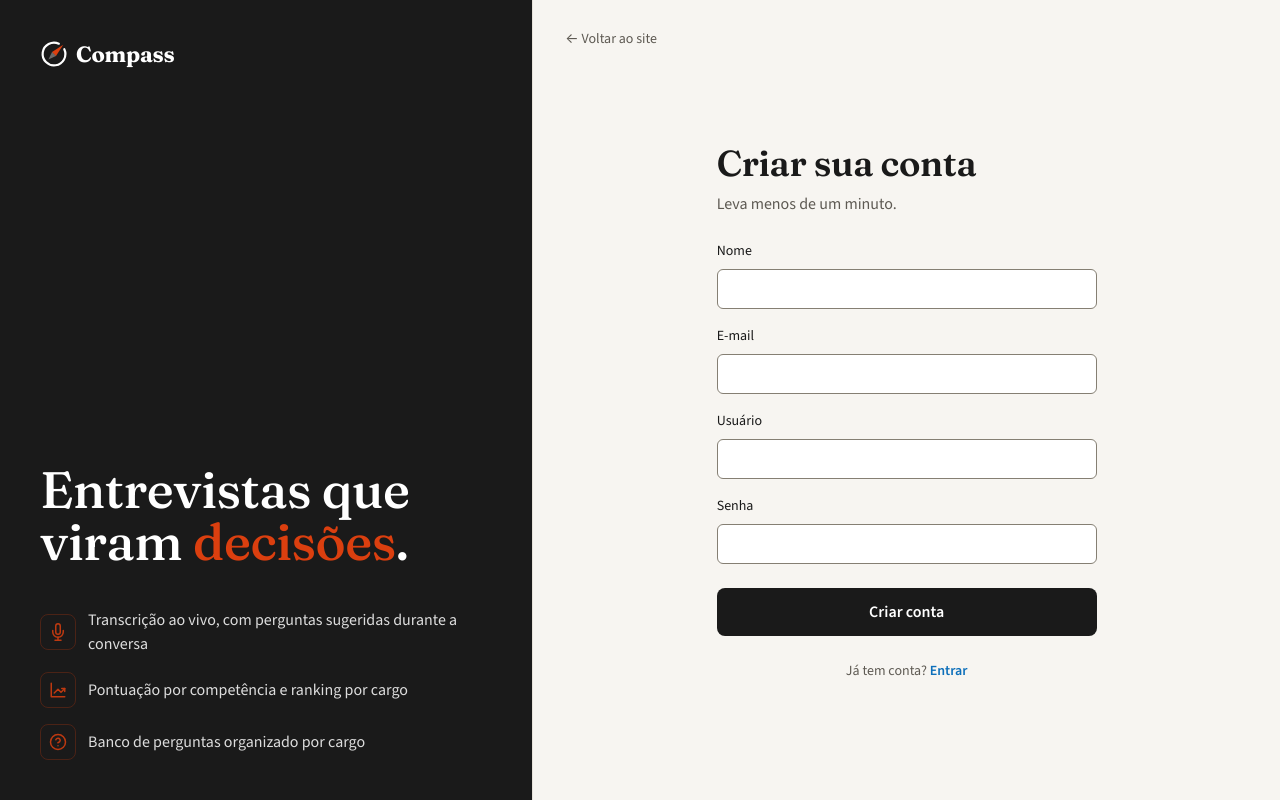
Test: cadastro válido avisa por toast e volta para o login com o usuário preenchido
Check: the heading "Criar sua conta" is shown, box [717,141,976,185]
Type "Ana Souza" into the field labelled "Nome" at (907, 289), box [717,269,1097,309]
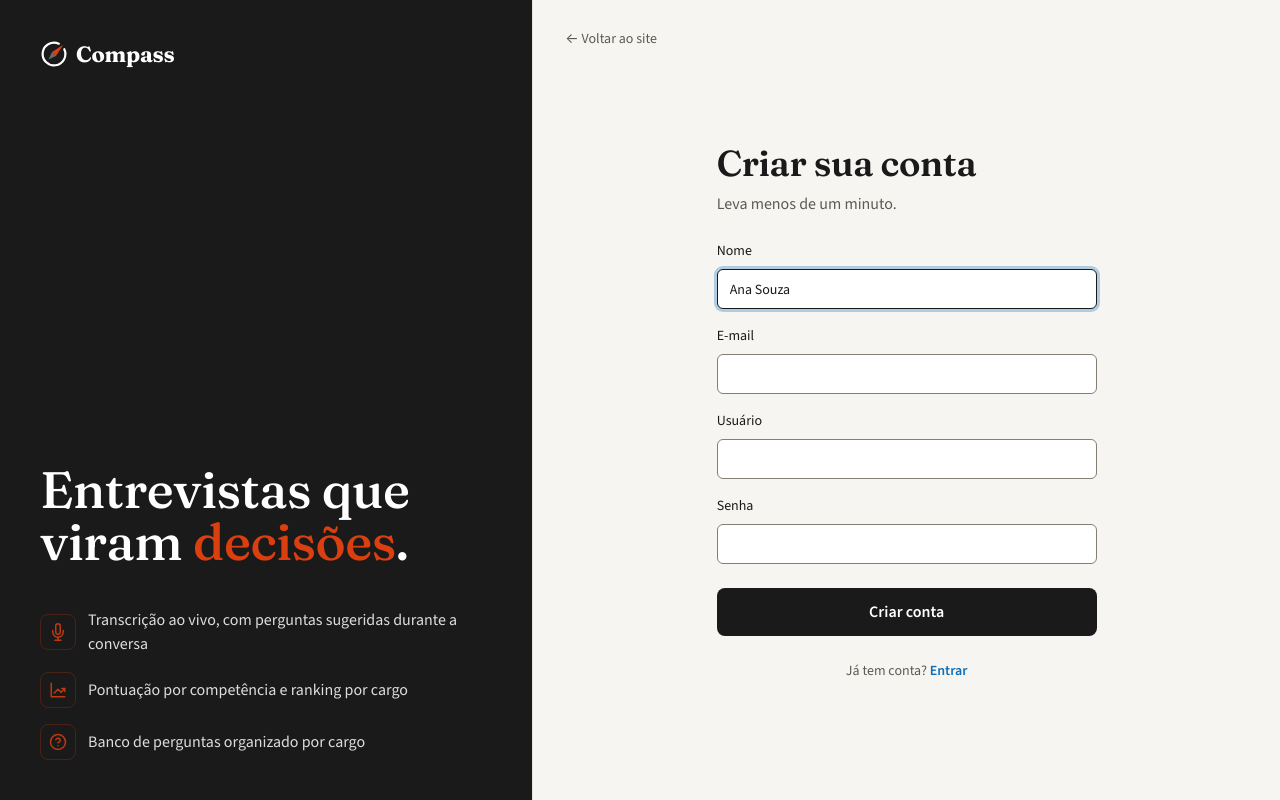
Type "ana@x.com" into the field labelled "E-mail" at (907, 374), box [717,354,1097,394]
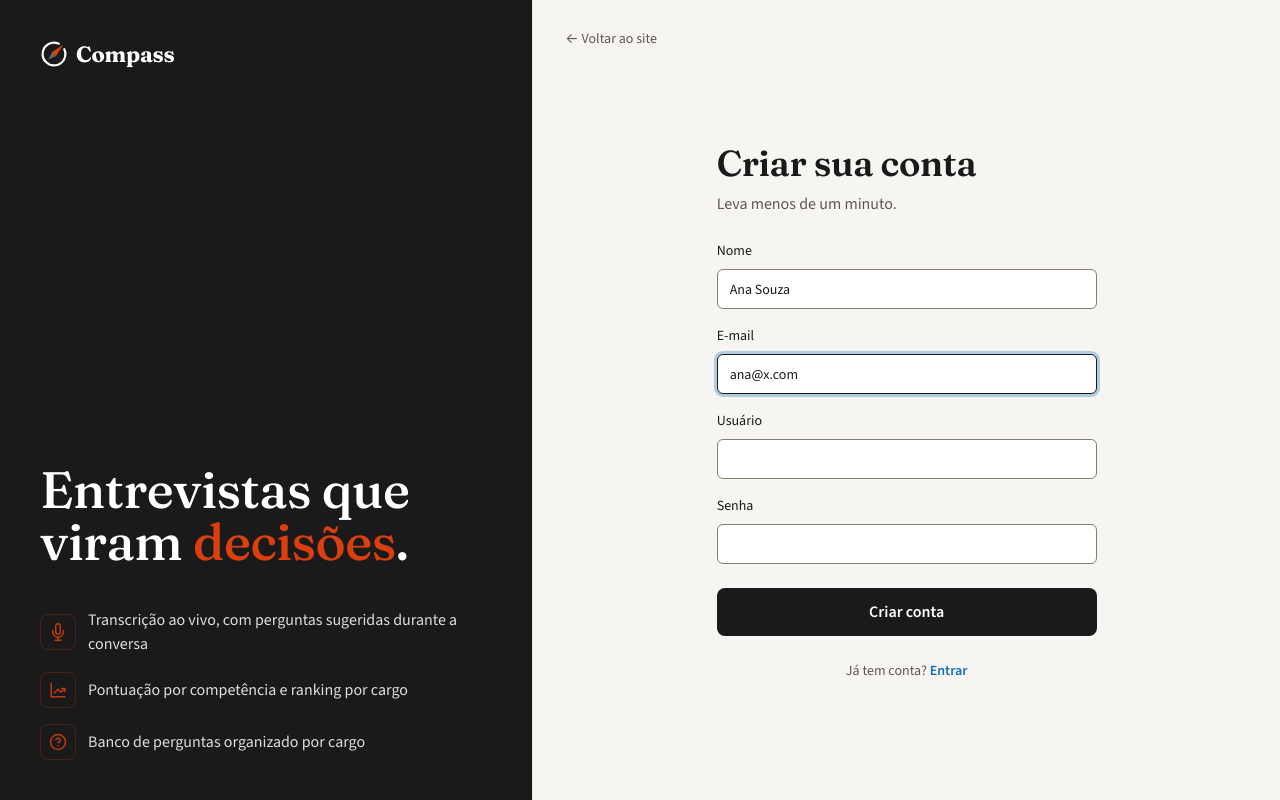
Type "ana" into the field labelled "Usuário" at (907, 459), box [717,439,1097,479]
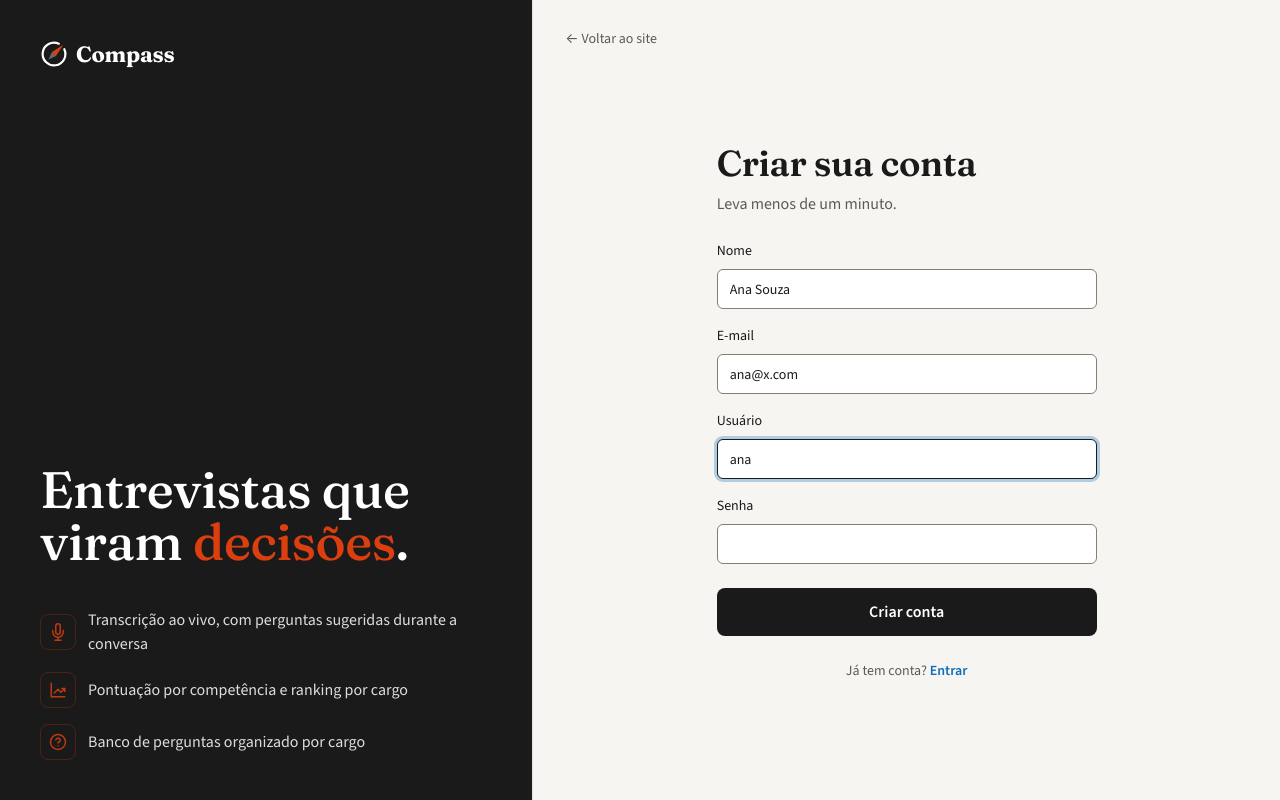
Type "segredo-123" into the password field labelled "Senha" at (907, 544), box [717,524,1097,564]
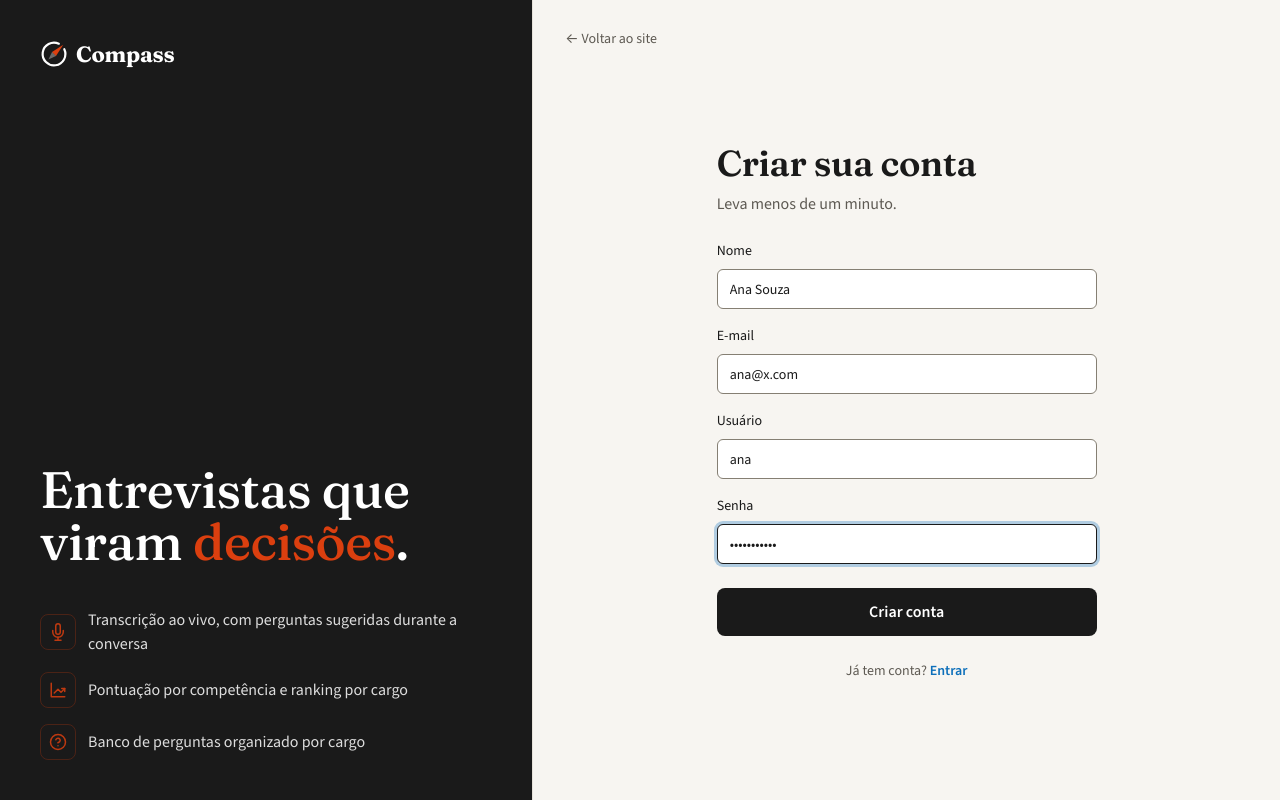
Click the button "Criar conta" at (907, 612), box [717,588,1097,636]
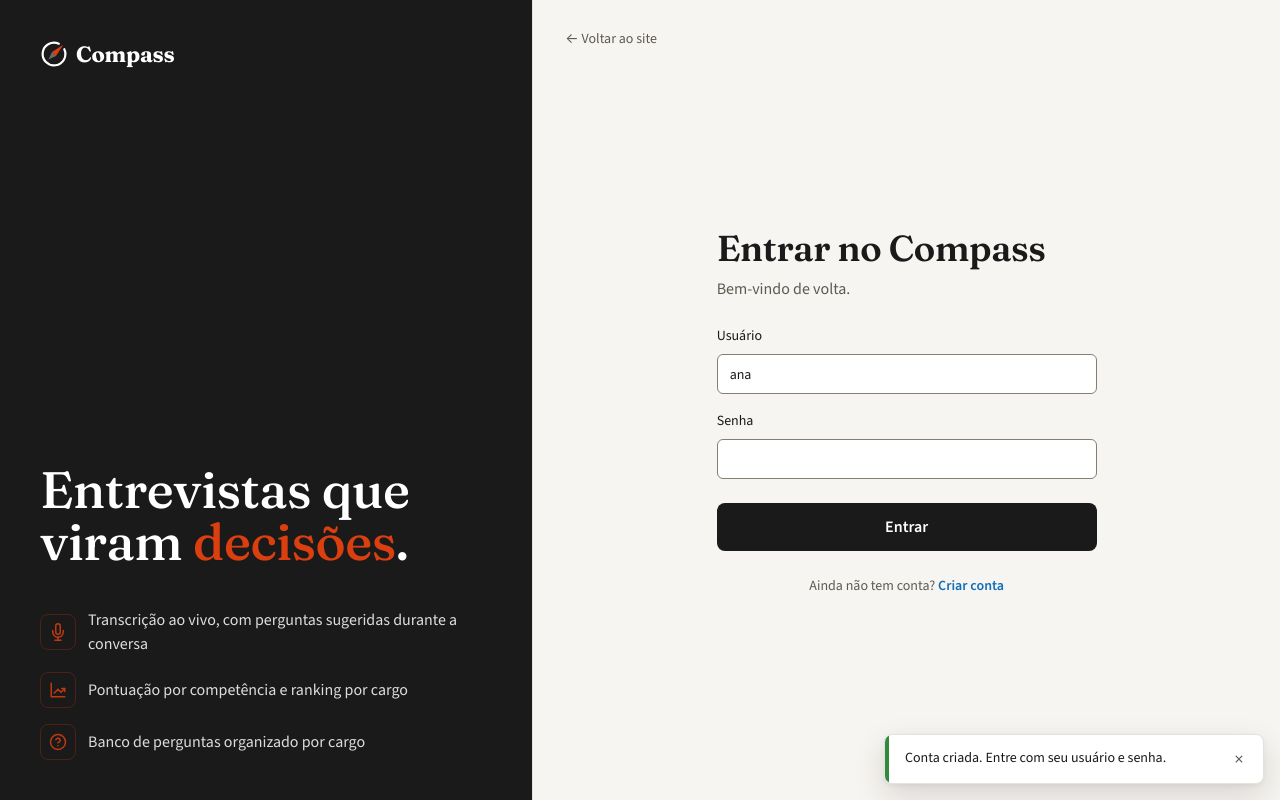
Check: the message shows "Conta criada", box [905,748,1166,767]
Check: the heading "Entrar no Compass" is shown, box [717,228,1097,269]
